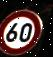Speed Limit -60-: (0, 5, 48, 56)
